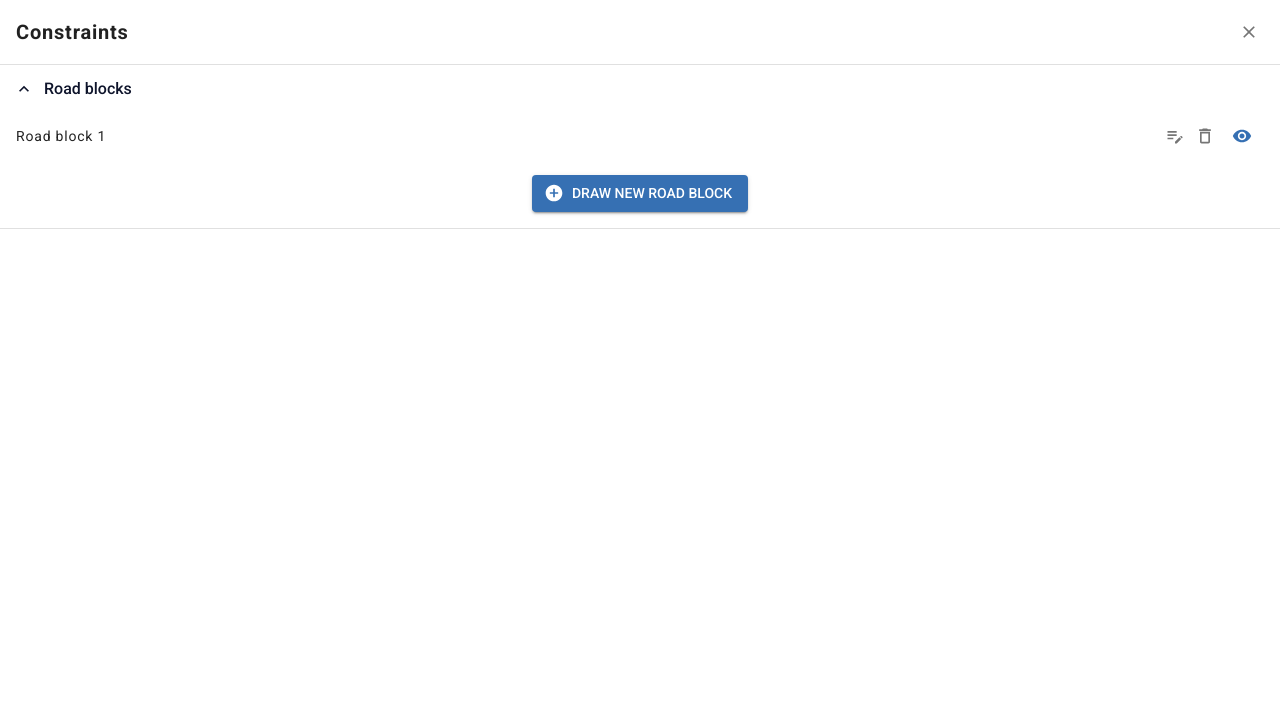
it: ConstraintsView › Error Handling › shows error snackbar when delete fails
The width and height of the screenshot is (1280, 720).
Click the button named "Delete constraint".
click(1205, 136)  # box [1190,121,1220,151]
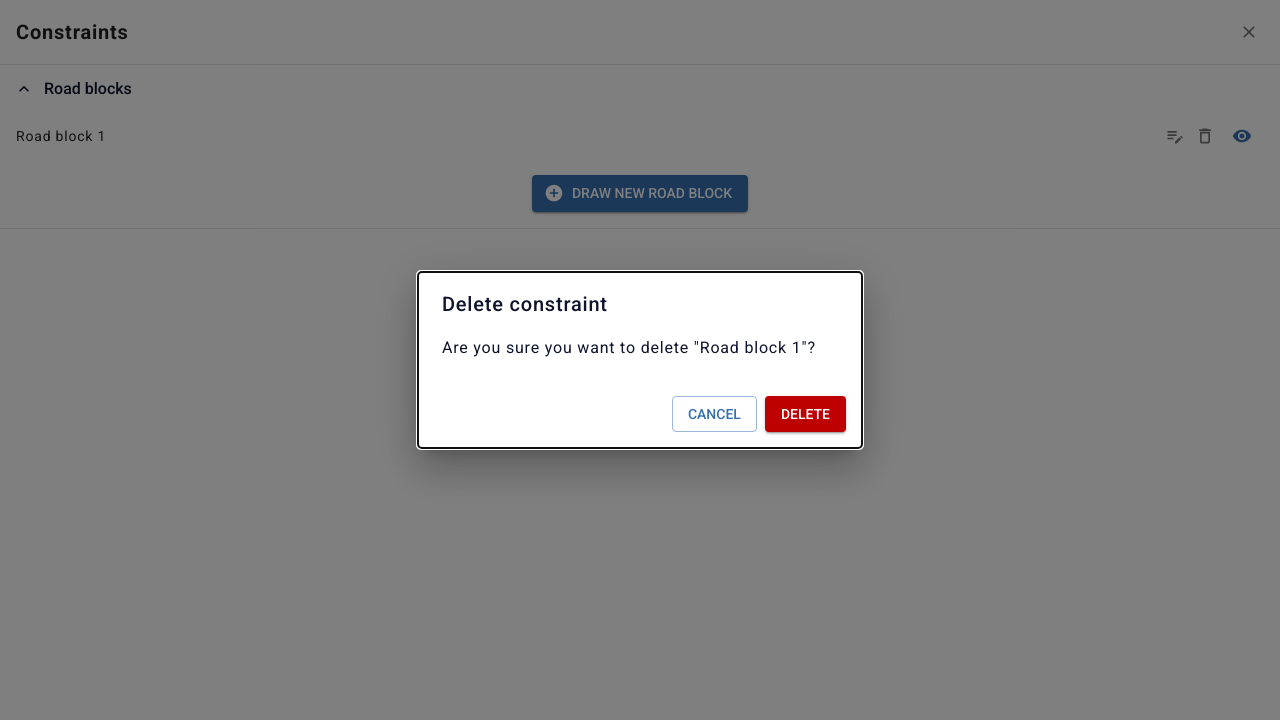
Result: the button "DELETE" is shown
Click the button "DELETE".
click(805, 414)  # box [765,396,846,432]
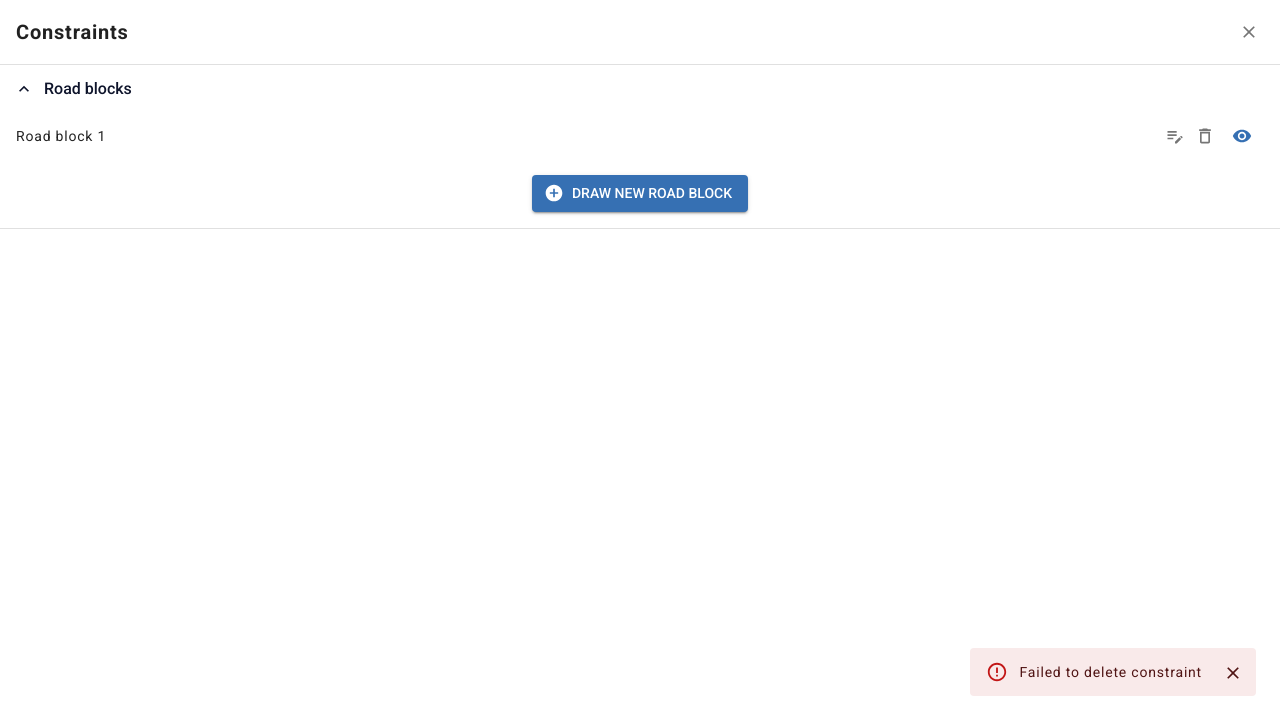
Result: the text "Failed to delete constraint" is shown at [1020,664,1202,680]
